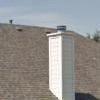Chimney: (42, 21, 75, 100)
